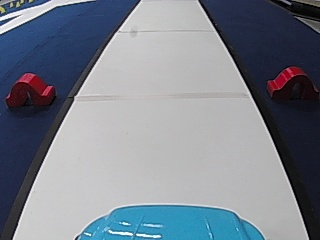bridge: (4, 70, 58, 109), (264, 63, 315, 100)
